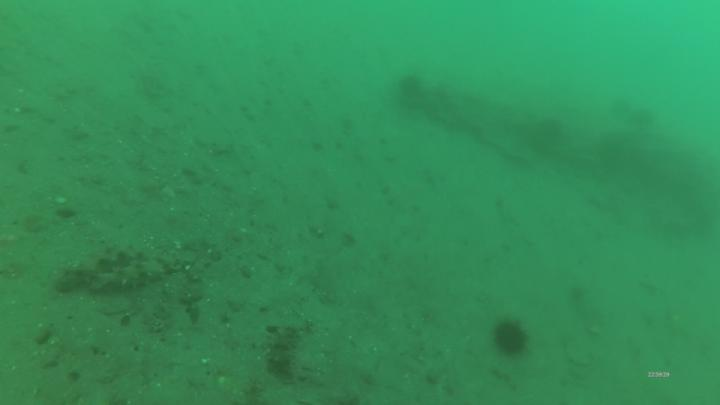echinus: (496, 322, 528, 354)
holothurian: (53, 252, 148, 293), (97, 258, 181, 292), (268, 322, 301, 378)
